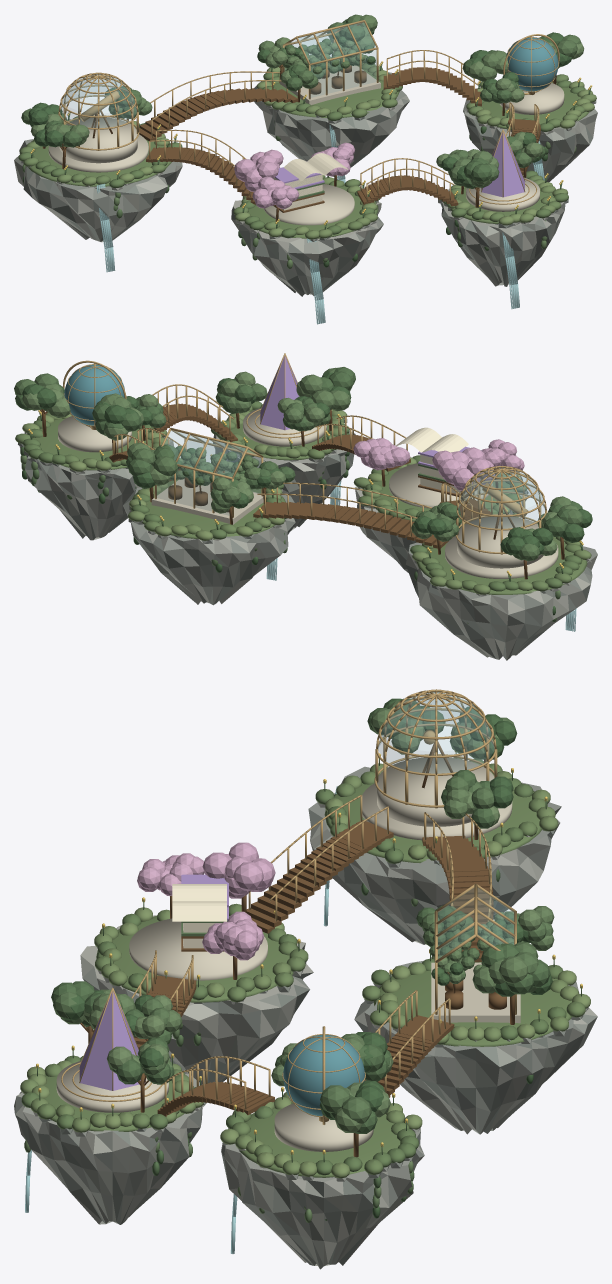
The model's file is world.glb.
The picture shows the model from 3 angles, top to bottom: view 1: azimuth 30°, elevation 25°; view 2: azimuth 150°, elevation 25°; view 3: azimuth 270°, elevation 25°; orthographic projection. The views are drawn at different scales.
Parts seen in each view (by area): view 1: mathematics_Weathered_rock_0, english_Weathered_rock_0, science_Weathered_rock_0, logic_Weathered_rock_0, mathematics_Dark_walnut, mathematics_Aged_champagne_brass, science_Glazed_blue_glass, mathematics_Warm_limestone, english_Blossom, social_Weathered_rock_0, mathematics_Glazed_blue_glass, science_Aged_champagne_brass (+52 smaller); view 2: mathematics_Weathered_rock_0, science_Weathered_rock_0, social_Weathered_rock_0, mathematics_Aged_champagne_brass, mathematics_Warm_limestone, english_Blossom, mathematics_Dark_walnut, science_Glazed_blue_glass, mathematics_Glazed_blue_glass, logic_Weathered_rock_0, mathematics_Moss_1, social_Ocean_enamel (+47 smaller); view 3: social_Weathered_rock_0, science_Weathered_rock_0, logic_Weathered_rock_0, mathematics_Weathered_rock_0, english_Weathered_rock_0, mathematics_Dark_walnut, mathematics_Aged_champagne_brass, english_Blossom, mathematics_Warm_limestone, mathematics_Glazed_blue_glass, science_Moss_1, english_Warm_limestone (+50 smaller).
Boxes of the visible parts, bbox=[...] form: mathematics_Weathered_rock_0: bbox=[14, 139, 182, 242]; english_Weathered_rock_0: bbox=[231, 200, 383, 296]; science_Weathered_rock_0: bbox=[254, 72, 409, 176]; logic_Weathered_rock_0: bbox=[440, 188, 565, 286]; mathematics_Dark_walnut: bbox=[42, 88, 298, 204]; mathematics_Aged_champagne_brass: bbox=[58, 71, 287, 196]; science_Glazed_blue_glass: bbox=[285, 22, 376, 97]; mathematics_Warm_limestone: bbox=[48, 117, 148, 172]; english_Blossom: bbox=[234, 142, 354, 208]; social_Weathered_rock_0: bbox=[463, 99, 597, 182]; mathematics_Glazed_blue_glass: bbox=[60, 74, 136, 127]; science_Aged_champagne_brass: bbox=[282, 20, 478, 100]; mathematics_Weathered_rock_0: bbox=[405, 542, 597, 660]; science_Weathered_rock_0: bbox=[123, 487, 295, 605]; social_Weathered_rock_0: bbox=[19, 433, 174, 540]; mathematics_Aged_champagne_brass: bbox=[257, 465, 547, 554]; mathematics_Warm_limestone: bbox=[445, 516, 558, 578]; english_Blossom: bbox=[353, 438, 524, 492]; mathematics_Dark_walnut: bbox=[253, 498, 564, 579]; science_Glazed_blue_glass: bbox=[157, 430, 260, 515]; mathematics_Glazed_blue_glass: bbox=[458, 467, 545, 528]; logic_Weathered_rock_0: bbox=[213, 418, 355, 531]; mathematics_Moss_1: bbox=[416, 536, 587, 594]; social_Ocean_enamel: bbox=[64, 364, 124, 425]; social_Weathered_rock_0: bbox=[221, 1127, 424, 1269]; science_Weathered_rock_0: bbox=[354, 960, 597, 1134]; logic_Weathered_rock_0: bbox=[14, 1073, 206, 1224]; mathematics_Weathered_rock_0: bbox=[308, 766, 561, 944]; english_Weathered_rock_0: bbox=[80, 915, 313, 1085]; mathematics_Dark_walnut: bbox=[246, 740, 493, 962]; mathematics_Aged_champagne_brass: bbox=[248, 689, 497, 922]; english_Blossom: bbox=[137, 842, 275, 960]; mathematics_Warm_limestone: bbox=[362, 757, 512, 840]; mathematics_Glazed_blue_glass: bbox=[378, 692, 494, 773]; science_Moss_1: bbox=[362, 956, 585, 1046]; english_Warm_limestone: bbox=[129, 918, 267, 980].
Size of the model in its own units: 13.97 by 5.12 by 8.84.
